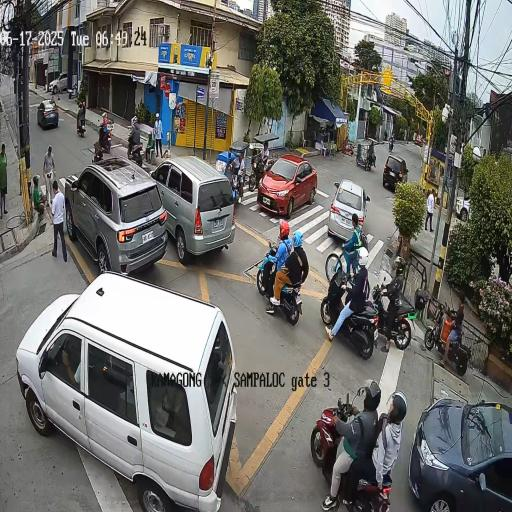Car: (3, 253, 244, 512), (52, 154, 178, 288), (413, 365, 512, 512), (137, 136, 242, 261), (316, 162, 376, 253), (252, 150, 328, 216), (32, 93, 61, 147), (380, 149, 407, 207)
Motor: (300, 364, 412, 512), (252, 204, 316, 337), (318, 244, 377, 366), (374, 256, 418, 352)
